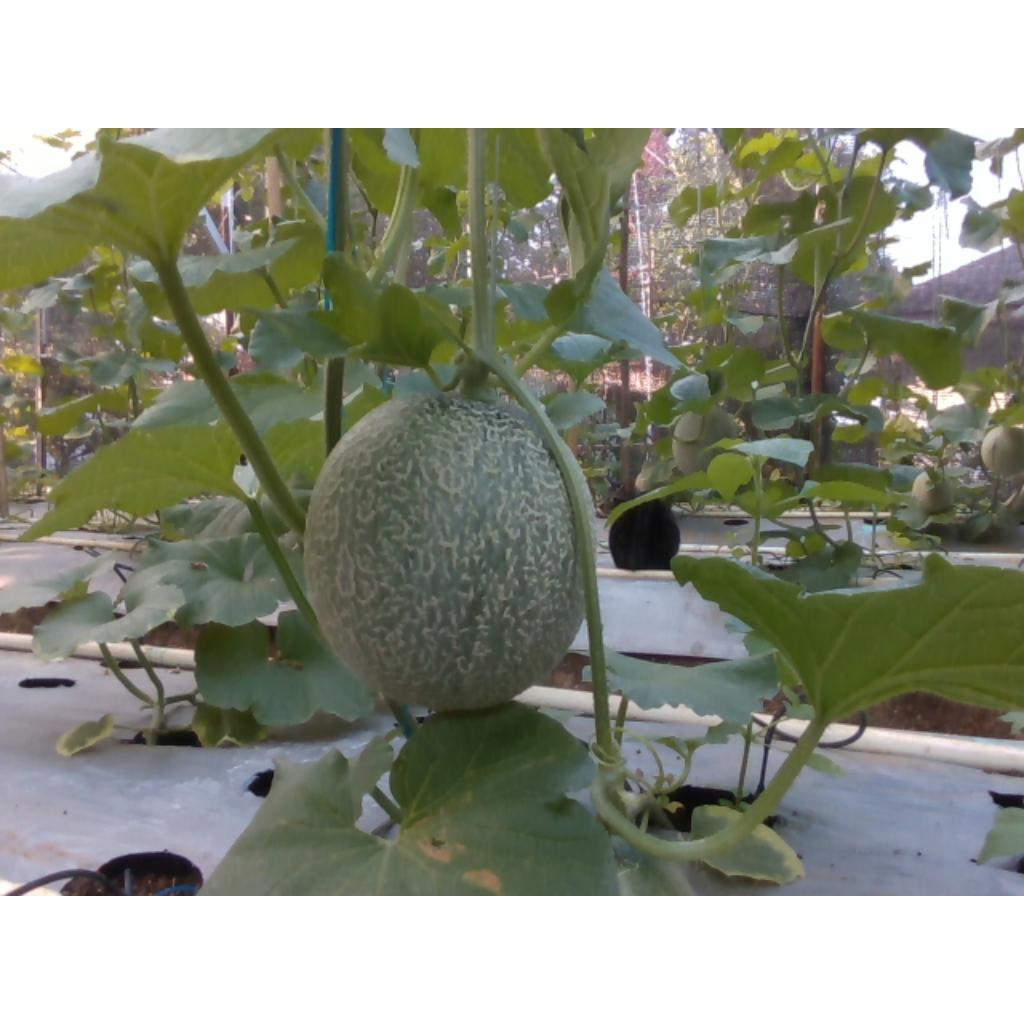melon: (306, 394, 586, 711)
